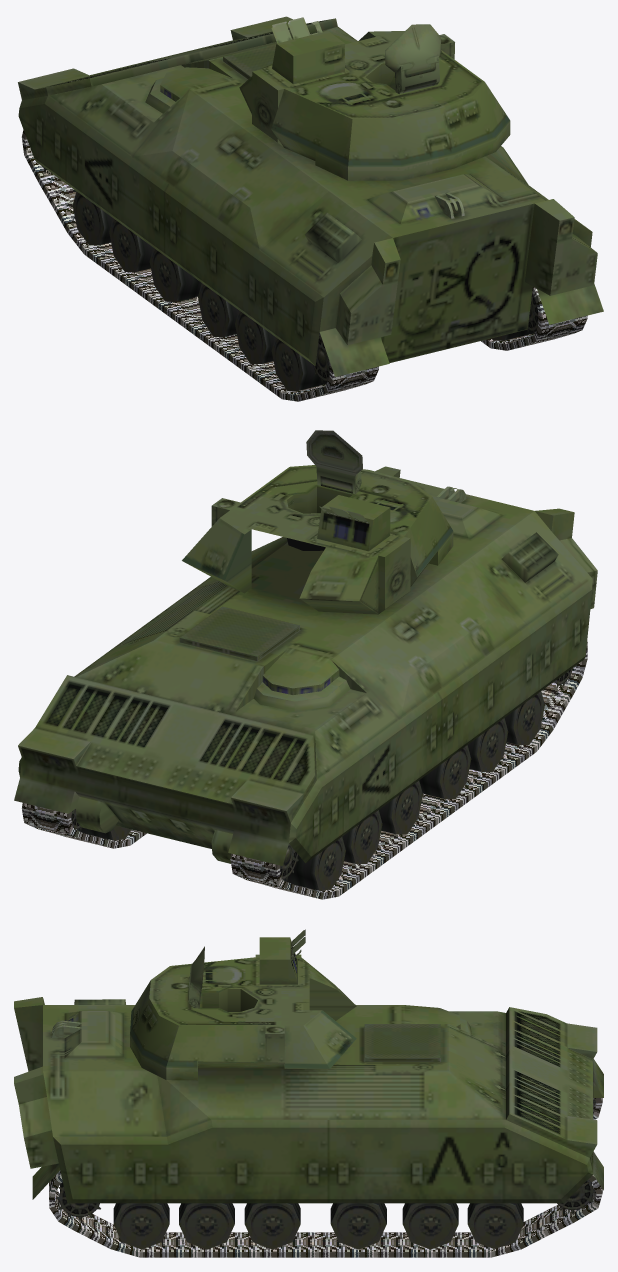
Rendered from M2A1_BRADLEY_GC.glb.
3 renders of one model, top to bottom at view 1: azimuth 30°, elevation 25°; view 2: azimuth 150°, elevation 25°; view 3: azimuth 270°, elevation 25°, orthographic. The views are drawn at different scales.
Parts seen in each view (by area): view 1: BODY, TURRET, M2A1_BRADLEY_WHEEL2_RIGHT (×6), M2A1_BRADLEY_TRACK_LEFT_GC, COMMAND_HATCH, M2A1_BRADLEY_TRACK_RIGHT_GC; view 2: BODY, TURRET, M2A1_BRADLEY_WHEEL2_RIGHT (×6), M2A1_BRADLEY_TRACK_LEFT_GC, COMMAND_HATCH, M2A1_BRADLEY_TRACK_RIGHT_GC; view 3: BODY, TURRET, M2A1_BRADLEY_WHEEL2_LEFT (×6), M2A1_BRADLEY_TRACK_RIGHT_GC, M2A1_BRADLEY_WHEEL1_LEFT (×2), COMMAND_HATCH.
Part boxes in pixels (box(x1,y1,x2,y2)): BODY: box(18, 16, 603, 376); TURRET: box(239, 17, 510, 180); M2A1_BRADLEY_WHEEL2_RIGHT (×6): box(72, 191, 326, 390); M2A1_BRADLEY_TRACK_LEFT_GC: box(21, 130, 378, 401); COMMAND_HATCH: box(385, 24, 441, 94); M2A1_BRADLEY_TRACK_RIGHT_GC: box(481, 286, 587, 350); BODY: box(14, 466, 597, 865); TURRET: box(182, 465, 453, 614); M2A1_BRADLEY_WHEEL2_RIGHT (×6): box(283, 691, 544, 890); M2A1_BRADLEY_TRACK_LEFT_GC: box(230, 641, 587, 899); COMMAND_HATCH: box(306, 430, 362, 494); M2A1_BRADLEY_TRACK_RIGHT_GC: box(21, 803, 146, 848); BODY: box(14, 997, 603, 1203); TURRET: box(130, 929, 356, 1080); M2A1_BRADLEY_WHEEL2_LEFT (×6): box(113, 1203, 523, 1249); M2A1_BRADLEY_TRACK_RIGHT_GC: box(49, 1170, 602, 1257); M2A1_BRADLEY_WHEEL1_LEFT (×2): box(55, 1179, 595, 1220); COMMAND_HATCH: box(188, 946, 204, 1008).
Bounding box in the file's own units: 3.09 × 3.28 × 6.41.
Materials: 6 (5 with a texture image).
